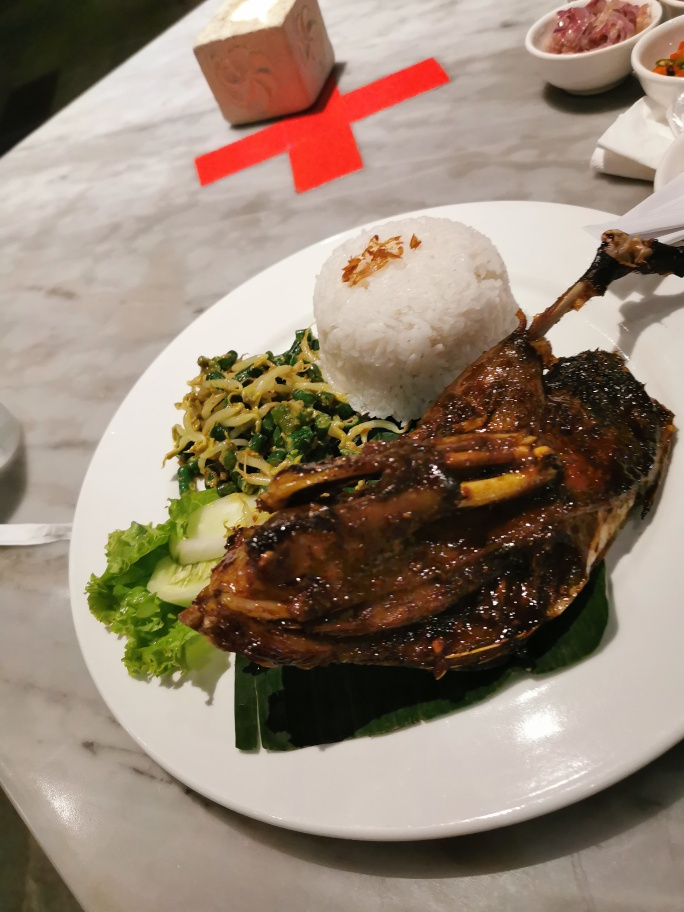bebek bakar: (178, 229, 684, 666)
nasi putih: (298, 206, 517, 414)
